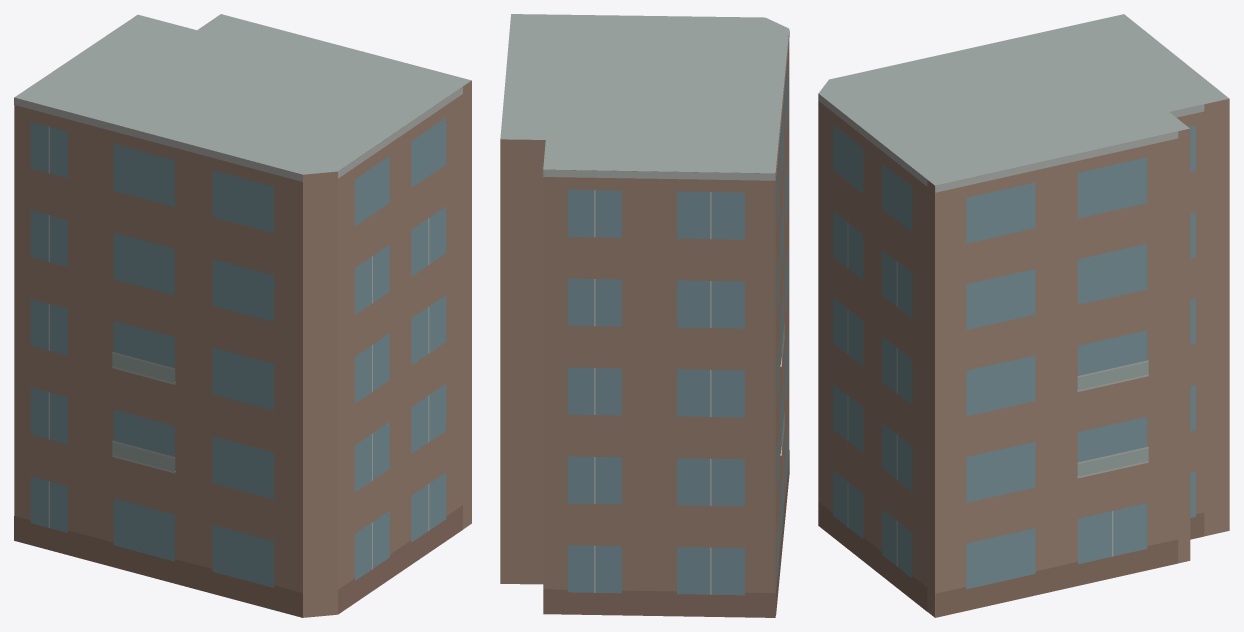
File: survey-upis-32748736.glb
The picture shows the model from 3 angles, left to right: view 1: azimuth 30°, elevation 25°; view 2: azimuth 150°, elevation 25°; view 3: azimuth 270°, elevation 25°; orthographic projection. The views are drawn at different scales.
Visible parts, largest first — view 1: survey-upis-32748736.tmp; view 2: survey-upis-32748736.tmp; view 3: survey-upis-32748736.tmp.
Part boxes in pixels (bbox=[...]): survey-upis-32748736.tmp: bbox=[14, 14, 471, 617]; survey-upis-32748736.tmp: bbox=[500, 14, 789, 617]; survey-upis-32748736.tmp: bbox=[818, 14, 1229, 617].
Bounding box in the file's own units: 12.53 × 14.7 × 12.68.
